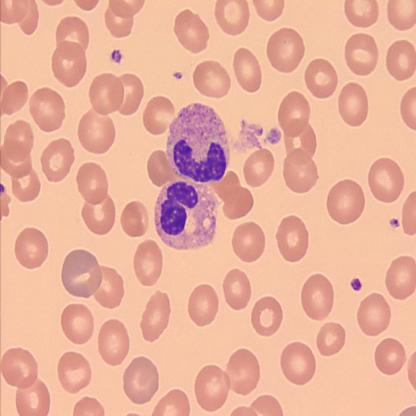Band Neutrophil: (164, 100, 230, 185), (152, 178, 218, 254)
